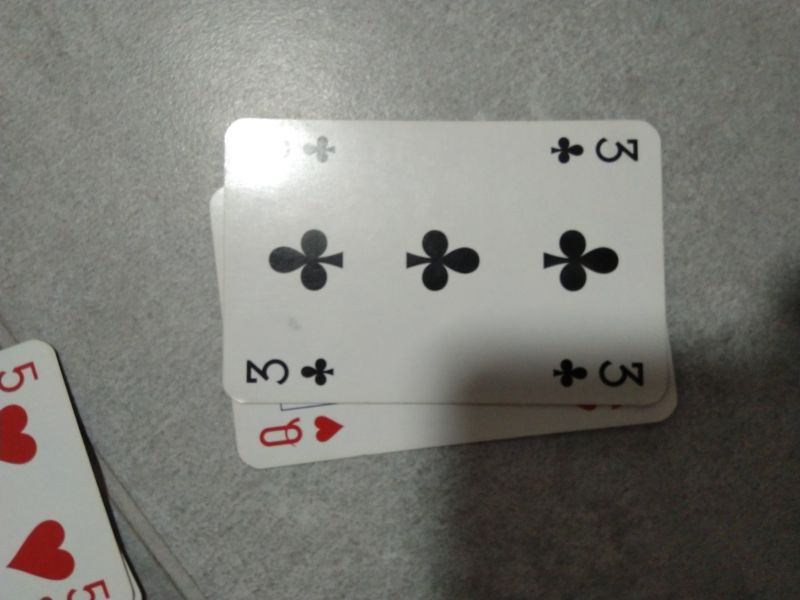3c: (543, 346, 662, 399), (541, 124, 654, 176), (233, 348, 346, 399)
Qh: (248, 405, 353, 456)
